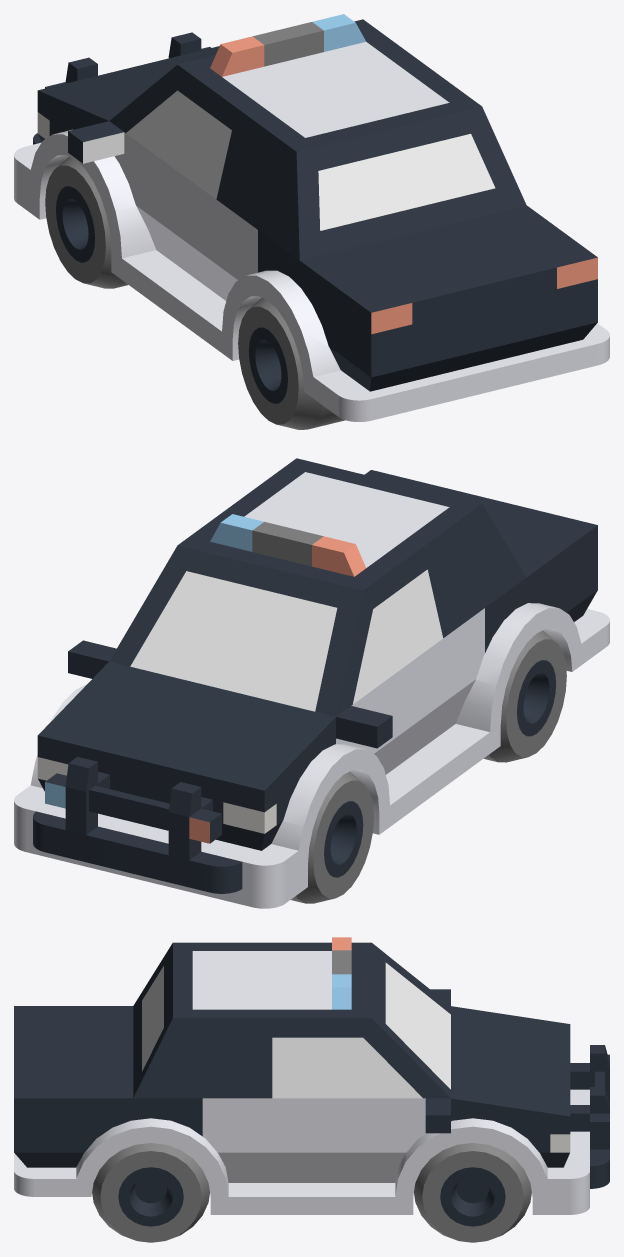
The model's file is police.glb.
The picture shows the model from 3 angles, top to bottom: view 1: azimuth 30°, elevation 25°; view 2: azimuth 150°, elevation 25°; view 3: azimuth 270°, elevation 25°; orthographic projection. The views are drawn at different scales.
Parts seen in each view (by area): view 1: body, wheel_backLeft, wheel_frontLeft, grill; view 2: body, grill, wheel_backLeft, wheel_frontLeft; view 3: body, wheel_backRight, wheel_frontRight, grill.
Boxes of the visible parts, x1=… form: body: x1=14, y1=14, x2=609, y2=421; wheel_backLeft: x1=238, y1=298, x2=344, y2=429; wheel_frontLeft: x1=45, y1=156, x2=128, y2=288; grill: x1=33, y1=32, x2=210, y2=144; body: x1=14, y1=458, x2=609, y2=908; grill: x1=33, y1=756, x2=242, y2=893; wheel_backLeft: x1=483, y1=630, x2=566, y2=762; wheel_frontLeft: x1=291, y1=771, x2=373, y2=903; body: x1=14, y1=937, x2=589, y2=1214; wheel_backRight: x1=92, y1=1143, x2=209, y2=1242; wheel_frontRight: x1=414, y1=1143, x2=531, y2=1242; grill: x1=570, y1=1045, x2=609, y2=1188.
Size of the model in its own units: 1.5 by 1.3 by 3.
